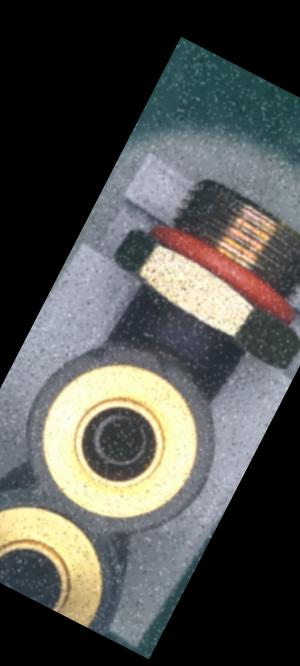bump: (78, 331, 115, 369), (143, 344, 177, 376)
white mark: (185, 316, 203, 334)
